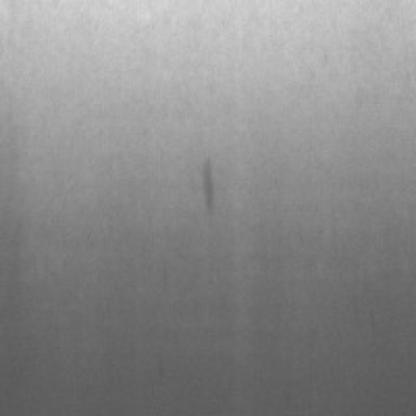inclusion: (194, 147, 224, 222)
